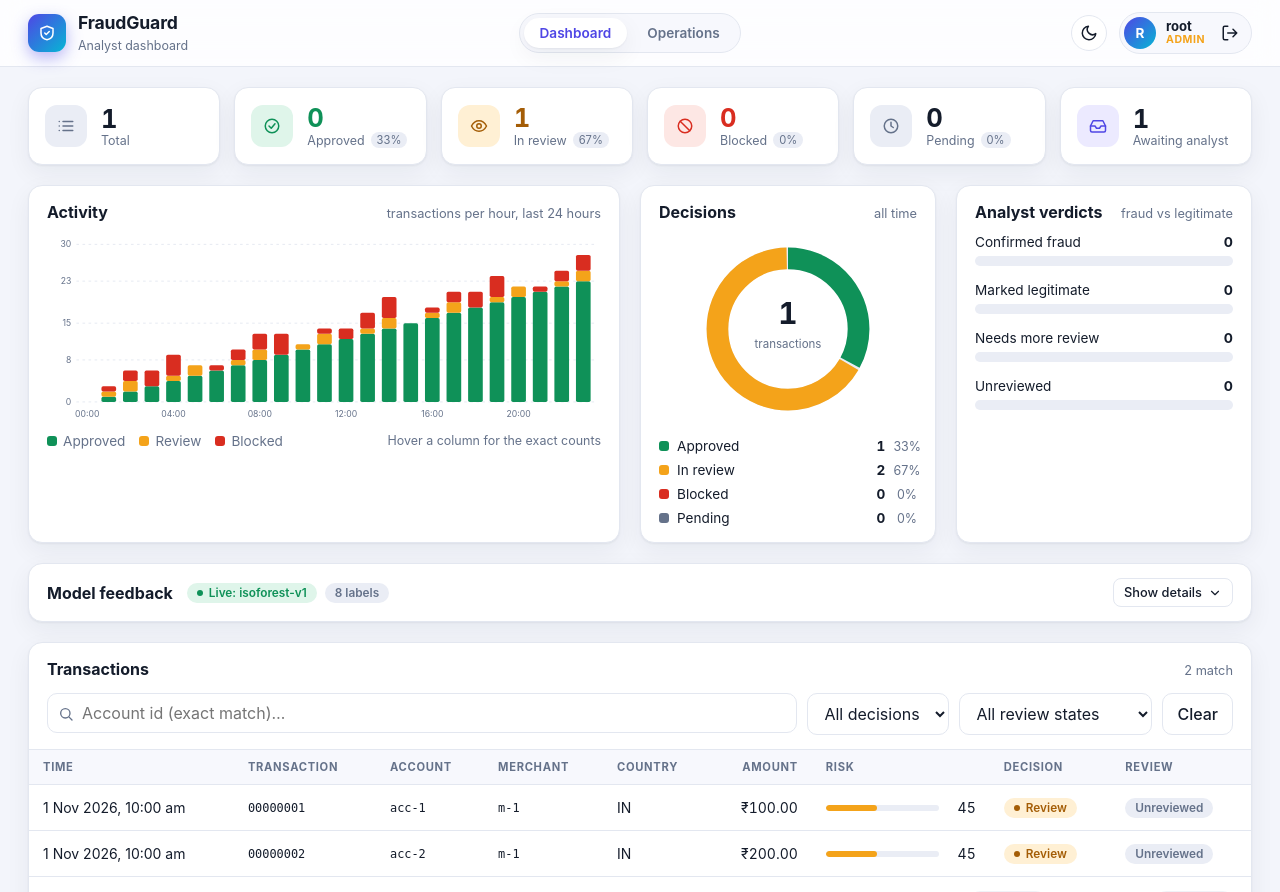
re-drive › re-drives with the default 120 seconds and reports the result
This screenshot has width=1280, height=892.
Click the button "Operations" at (683, 33), box [631,18,736,48]
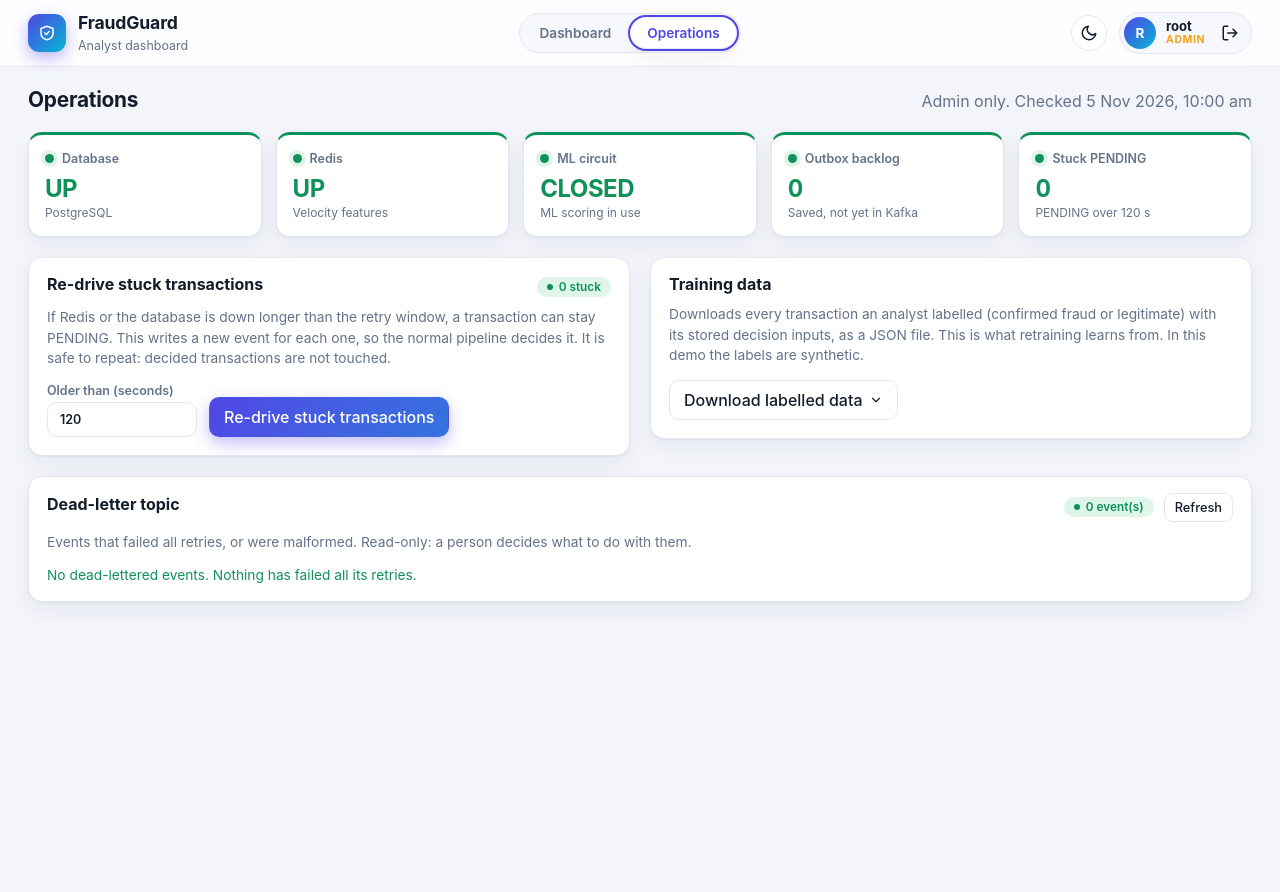
Click the button "Re-drive stuck transactions" at (329, 417), box [209,397,450,437]
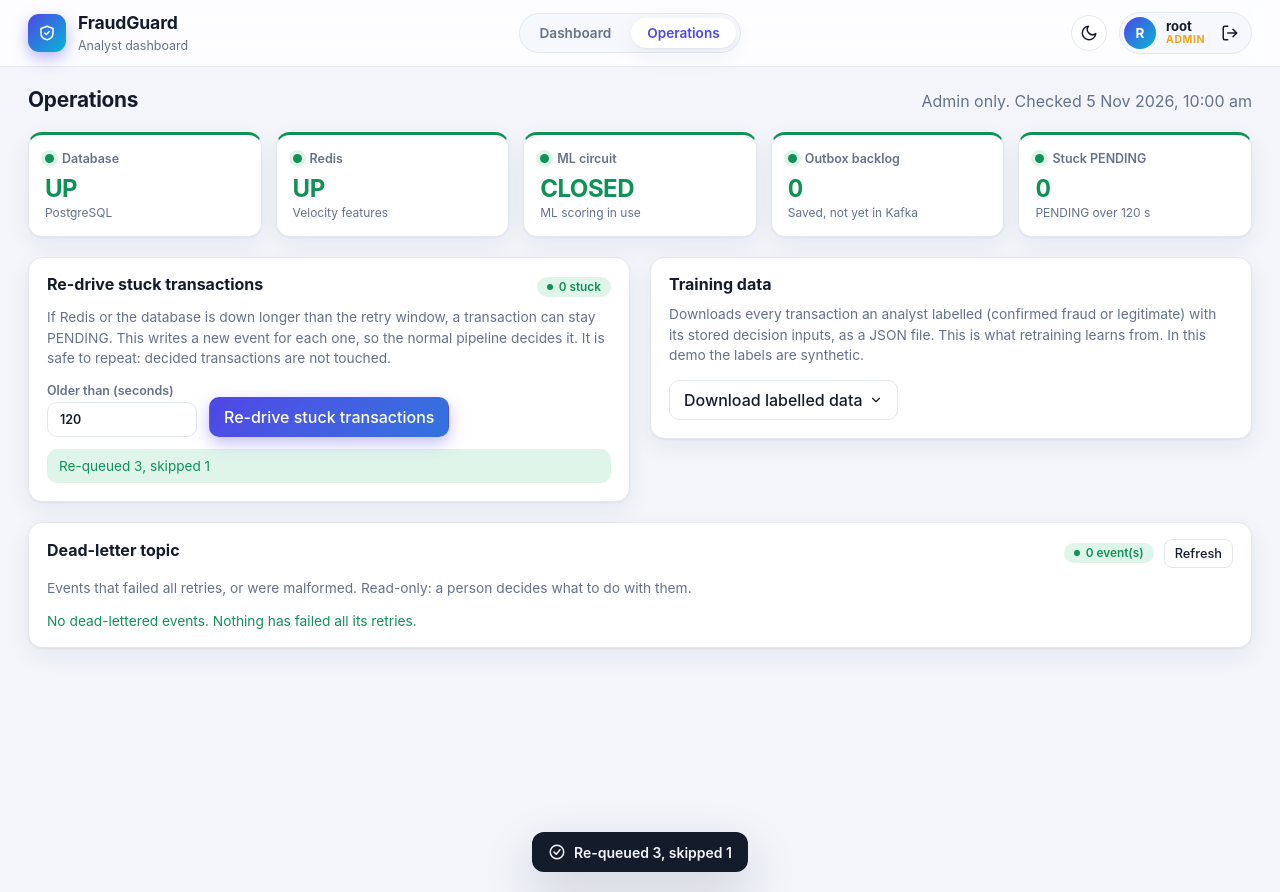
Now the text "Re-queued 3, skipped 1" is shown, box [47,449,611,483]
